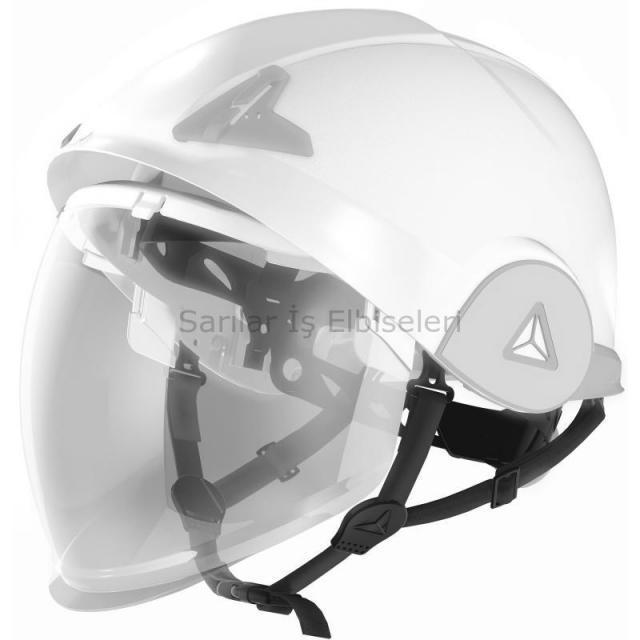safety_helmet: (46, 9, 625, 551)
